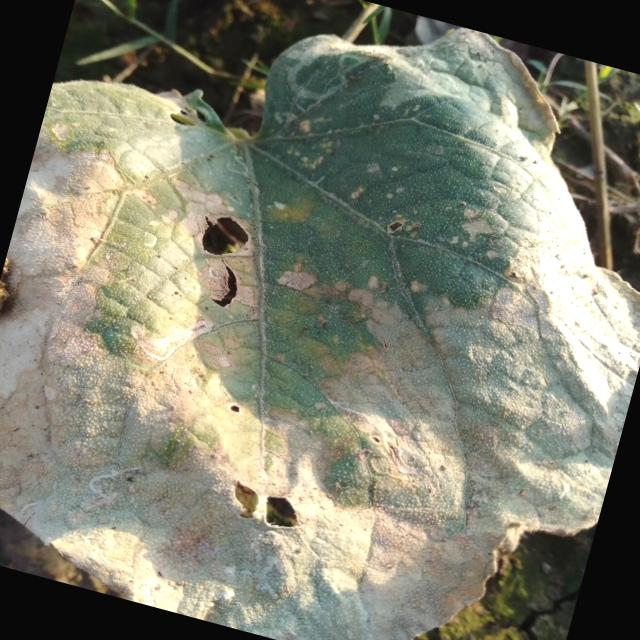cucumber_anthracnose: (59, 88, 538, 596)
